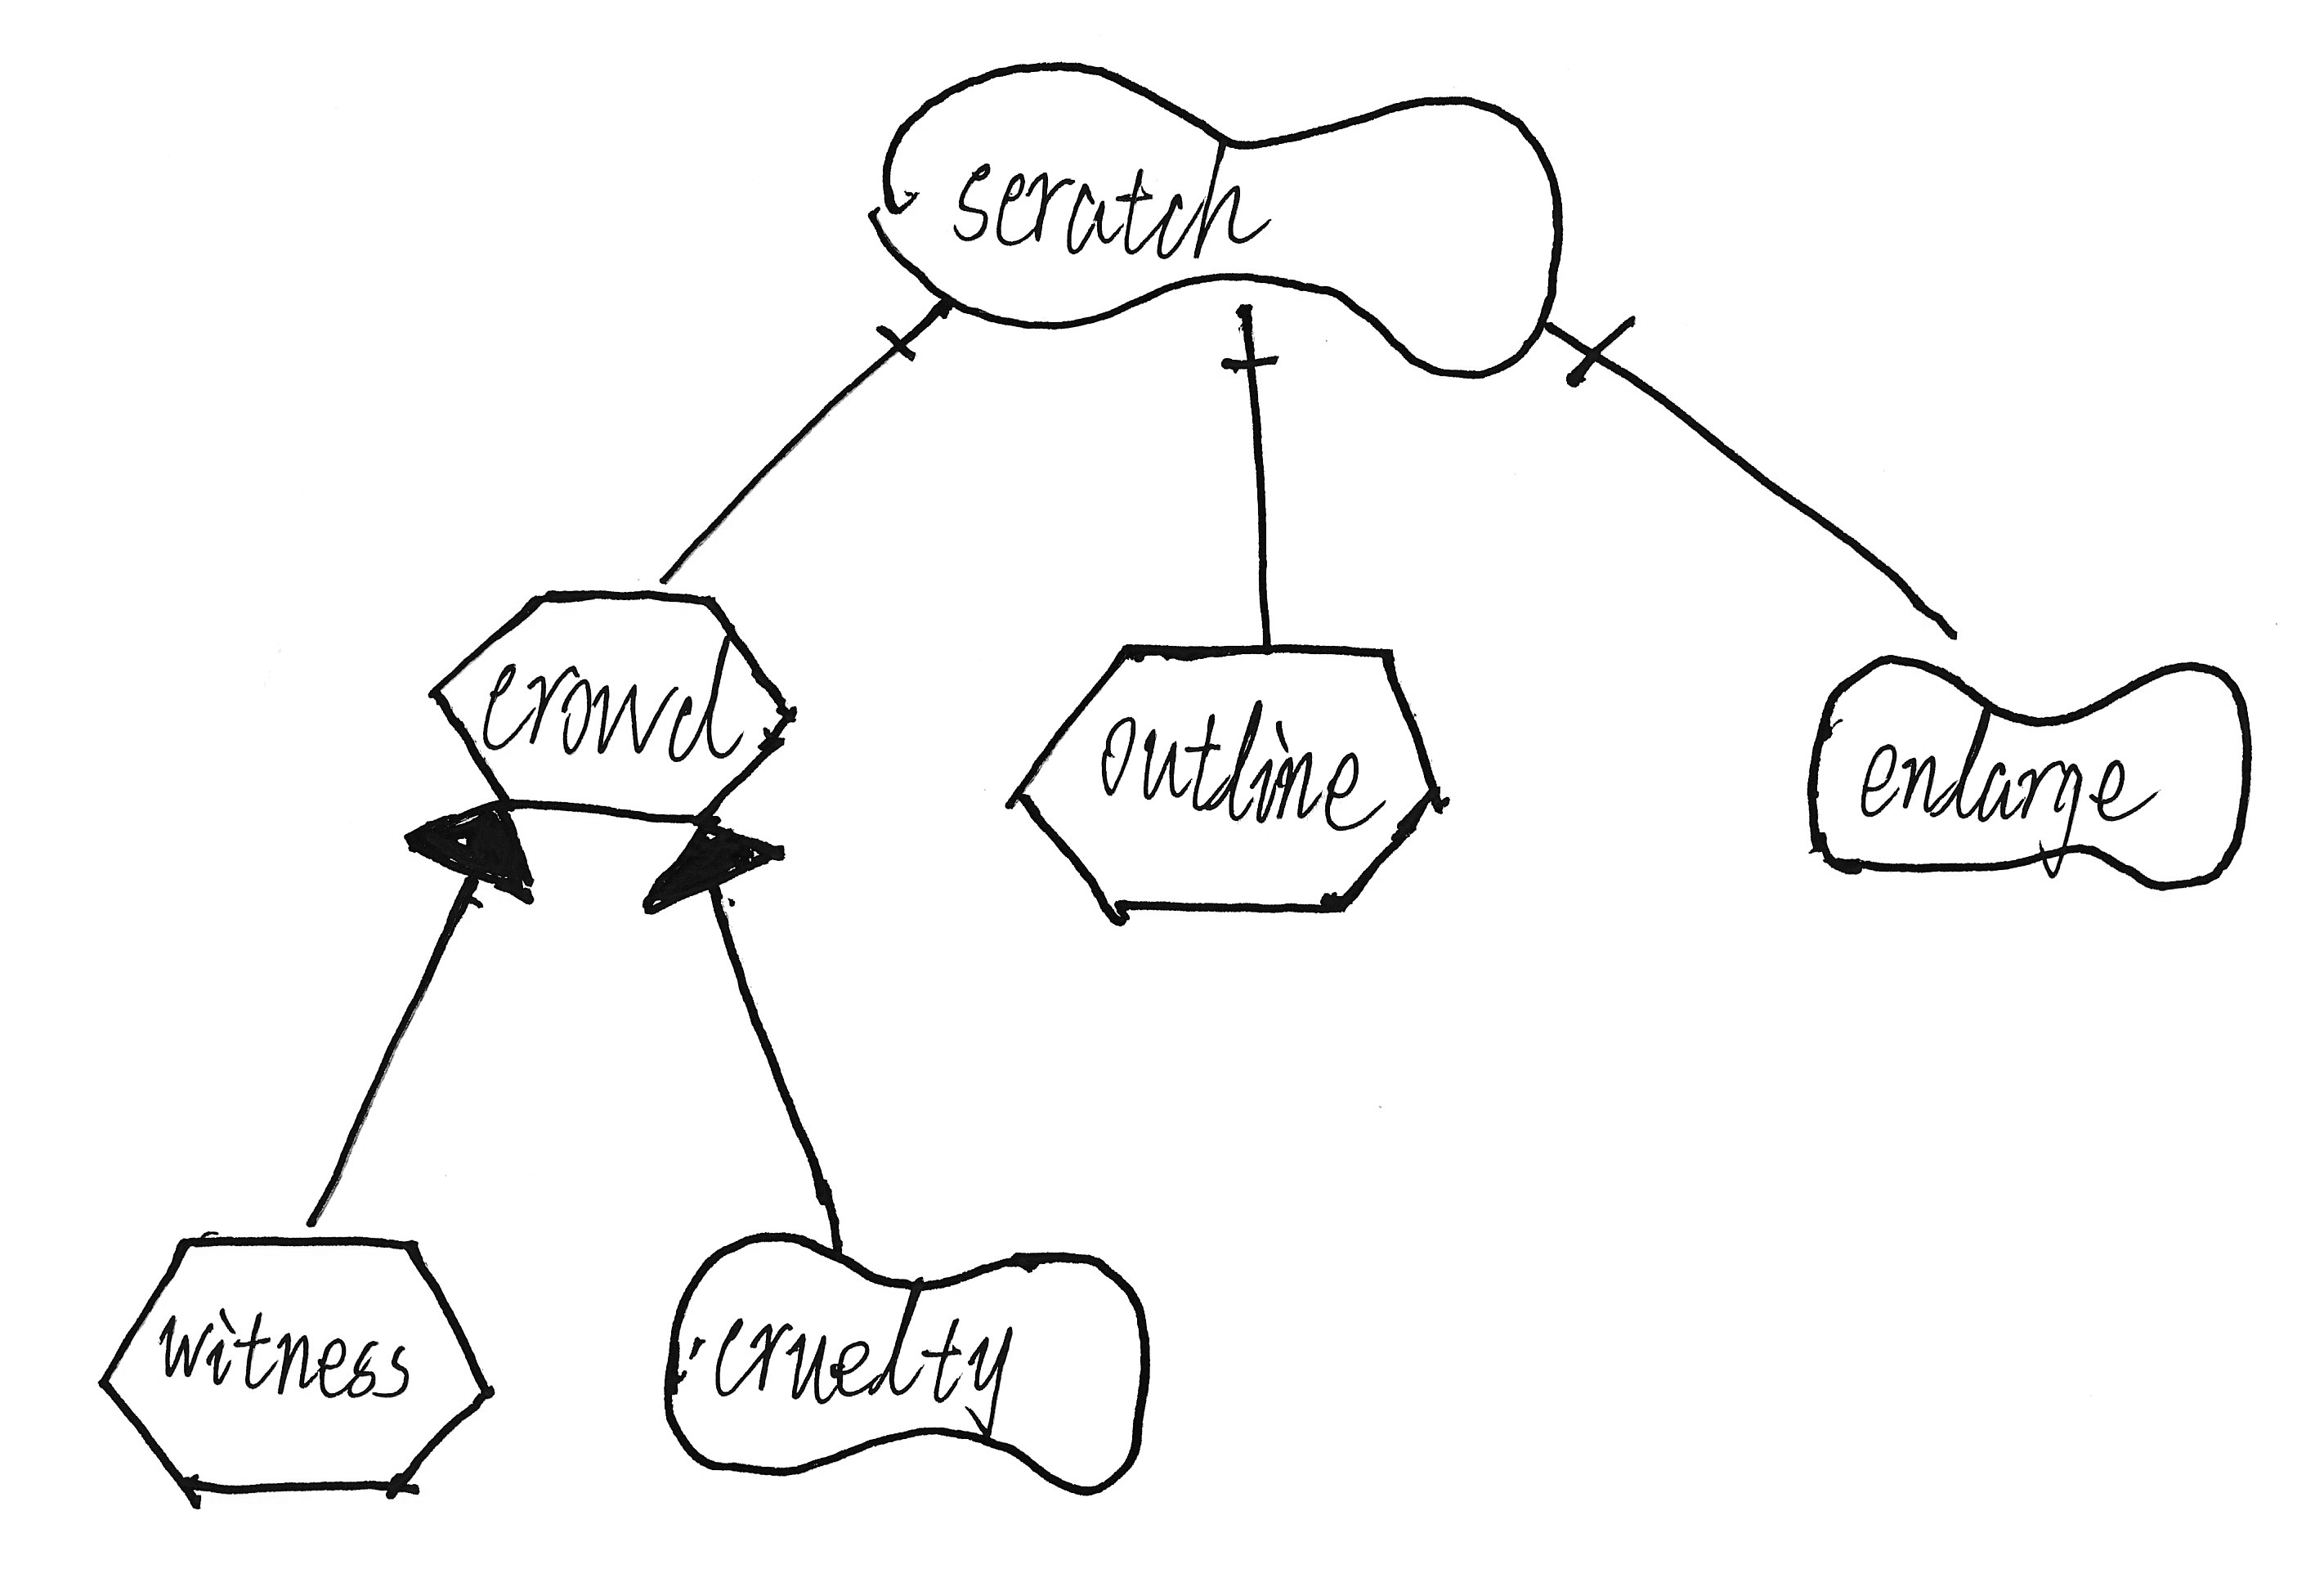and: (1554, 302, 1662, 422), (1206, 309, 1310, 401), (855, 305, 943, 403)
or: (634, 805, 804, 937), (394, 789, 546, 915)
quality: (849, 39, 1575, 397), (648, 1213, 1164, 1508), (1787, 634, 2266, 906)
task: (984, 620, 1469, 936), (76, 1211, 514, 1524), (410, 570, 825, 837)
